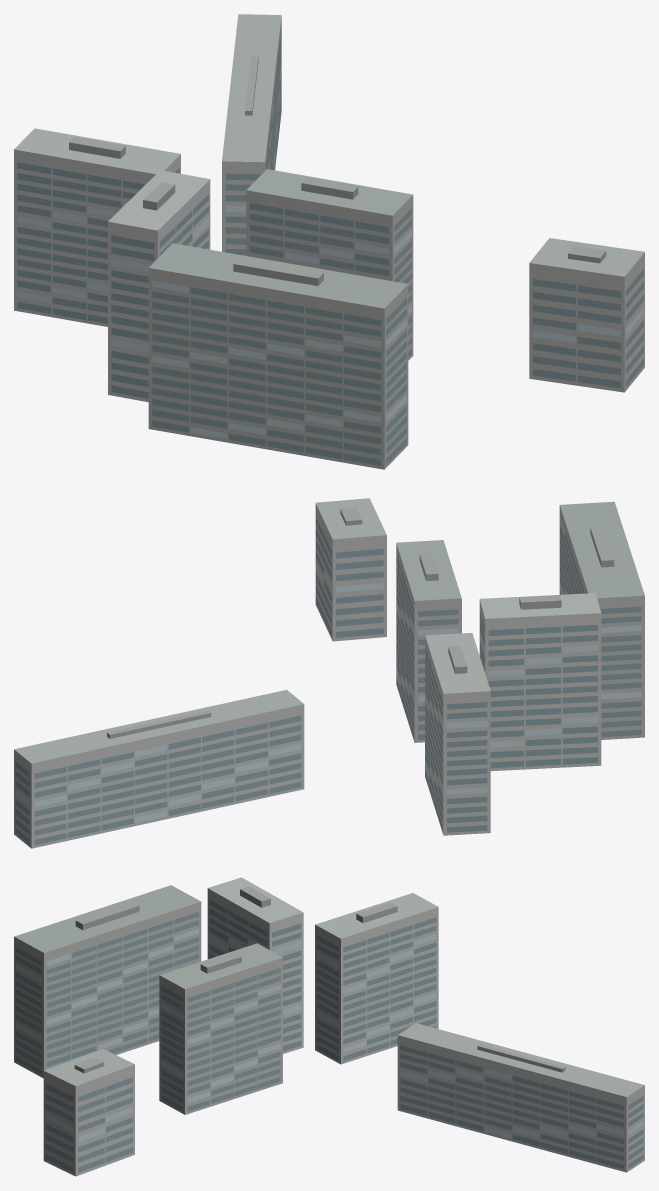
Rendered from apt-a15807205.glb.
3 views of the same model, one above another, from view 1: azimuth 30°, elevation 25°; view 2: azimuth 150°, elevation 25°; view 3: azimuth 270°, elevation 25° (orthographic). The views are drawn at different scales.
Visible parts, largest first — view 1: apt-a15807205; view 2: apt-a15807205; view 3: apt-a15807205.
Boxes of the visible parts, x1=… form: apt-a15807205: x1=14, y1=14, x2=644, y2=469; apt-a15807205: x1=14, y1=498, x2=644, y2=848; apt-a15807205: x1=14, y1=877, x2=644, y2=1176.
Size of the model in its own units: 108 by 43 by 174.
